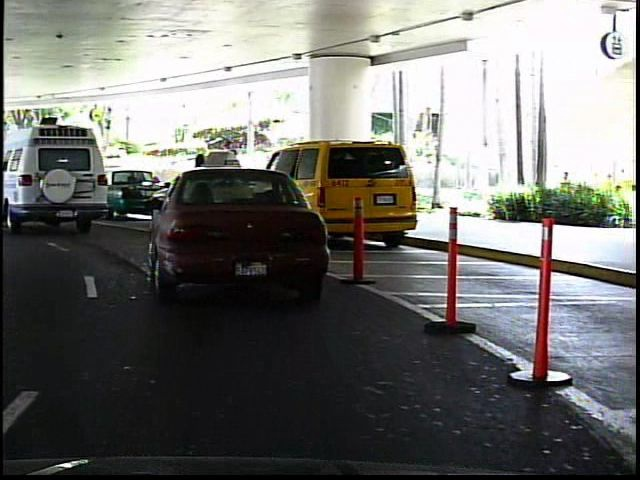person: (186, 147, 212, 213), (223, 144, 248, 211), (63, 153, 85, 198), (5, 158, 23, 198)
